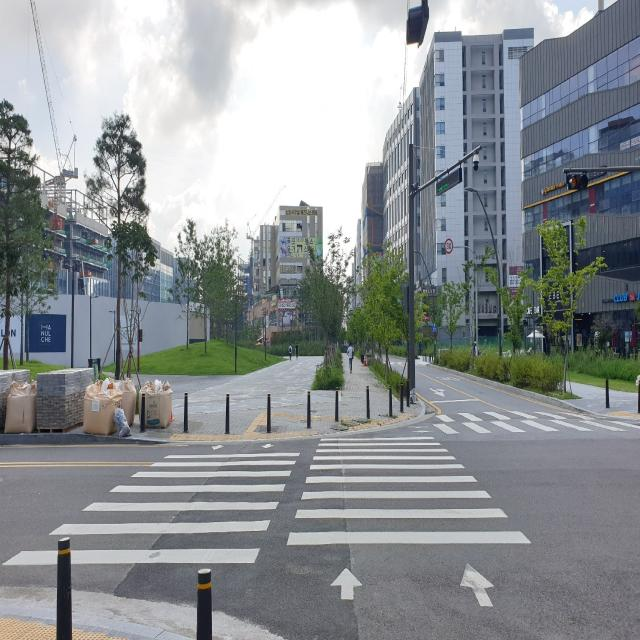횡단보도: (0, 430, 535, 613), (436, 400, 640, 441)
